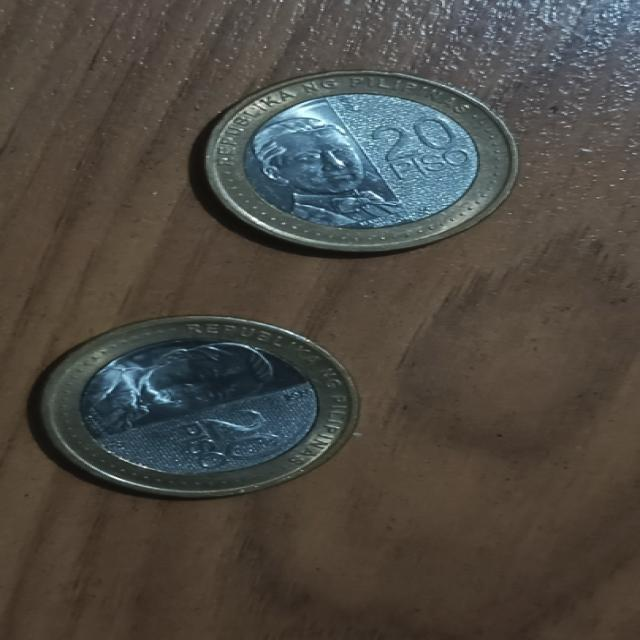20_peso: (43, 317, 353, 496), (206, 72, 515, 251)
